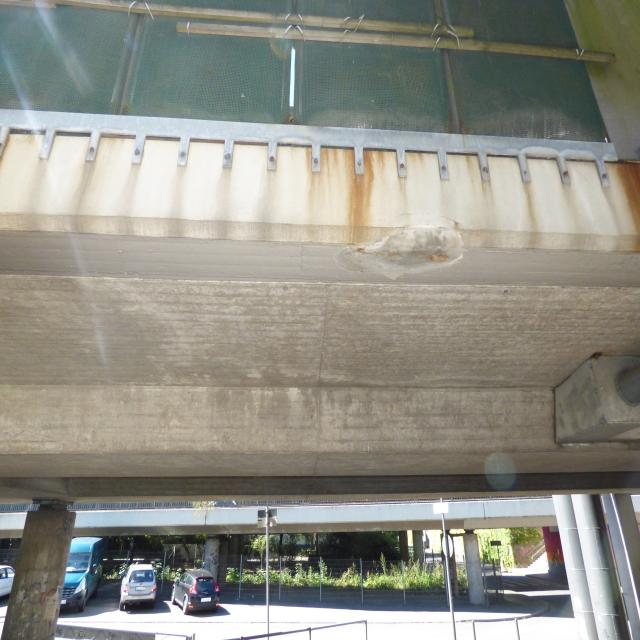corrosion: (298, 134, 391, 241), (612, 155, 640, 256), (354, 246, 452, 268), (1, 114, 14, 186)
